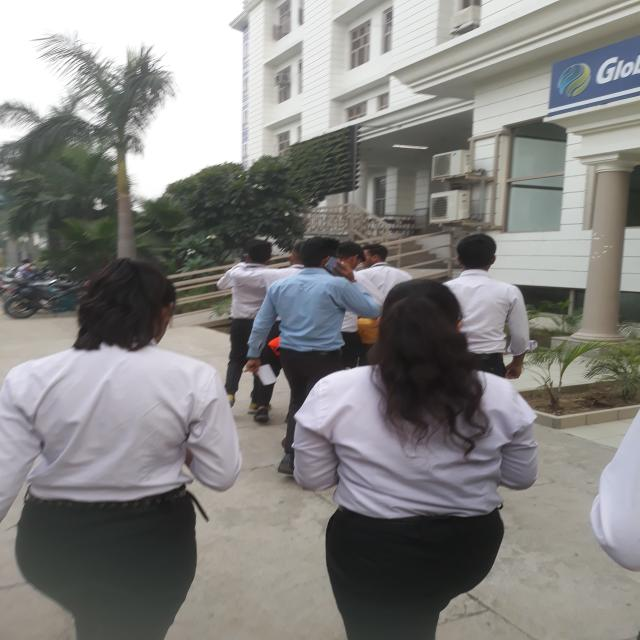unsafe: (5, 260, 224, 638), (323, 295, 508, 636), (448, 236, 537, 371), (277, 238, 356, 377), (226, 242, 276, 418)
